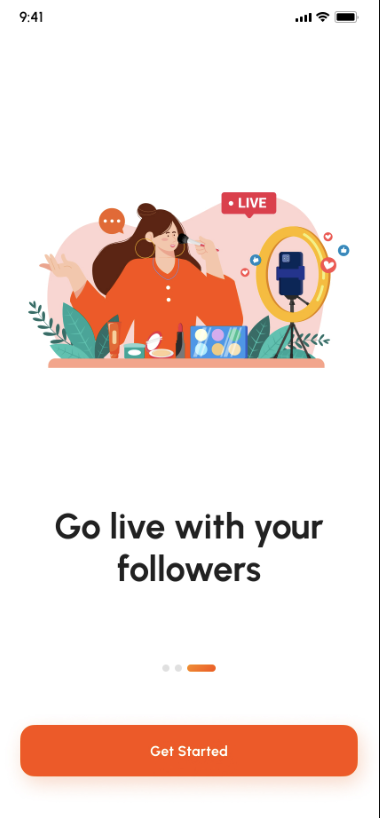Button: (18, 723, 359, 778)
